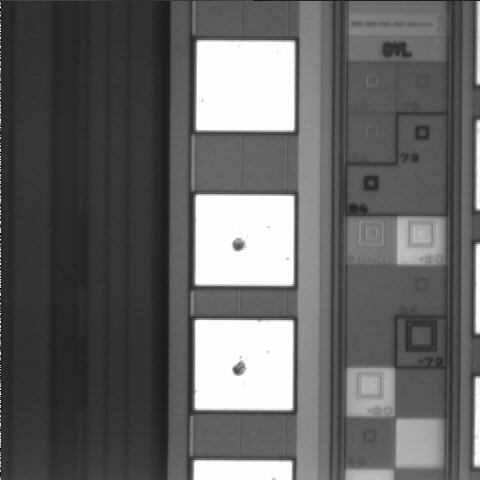pad: (196, 40, 295, 131), (195, 195, 294, 286), (195, 320, 293, 410)
